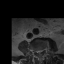CCS_normal: (38, 48, 40, 57)
LFS_normal: (42, 47, 44, 53)
LLS_normal: (40, 48, 42, 55)
RFS_stenosis: (34, 48, 36, 54)
RLS_normal: (36, 48, 38, 55)
